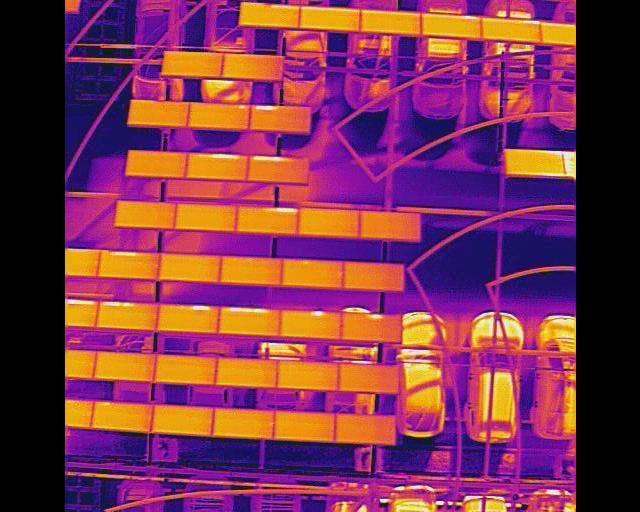Cell: (340, 312, 401, 343), (278, 311, 339, 340), (186, 105, 249, 130)
No-Anomaly: (334, 415, 395, 446), (276, 361, 337, 391), (272, 412, 335, 441), (338, 364, 400, 393), (150, 406, 211, 435), (213, 410, 274, 439), (218, 257, 281, 285), (296, 210, 359, 238), (157, 254, 219, 282), (342, 263, 404, 291), (154, 356, 215, 384), (213, 359, 275, 386), (90, 404, 152, 431), (281, 261, 343, 288), (93, 354, 154, 381), (359, 213, 420, 240), (114, 202, 175, 228), (174, 205, 236, 230), (125, 151, 186, 176), (221, 55, 282, 80), (162, 52, 221, 77), (238, 4, 298, 27), (129, 102, 186, 126), (296, 8, 358, 30), (358, 12, 420, 33)
Unclassified: (96, 302, 157, 330), (154, 306, 216, 333), (234, 208, 296, 235), (217, 309, 279, 336), (96, 252, 157, 279), (247, 157, 307, 184), (185, 154, 246, 180), (480, 18, 540, 44), (248, 107, 309, 132), (504, 150, 562, 176), (421, 15, 478, 40)
